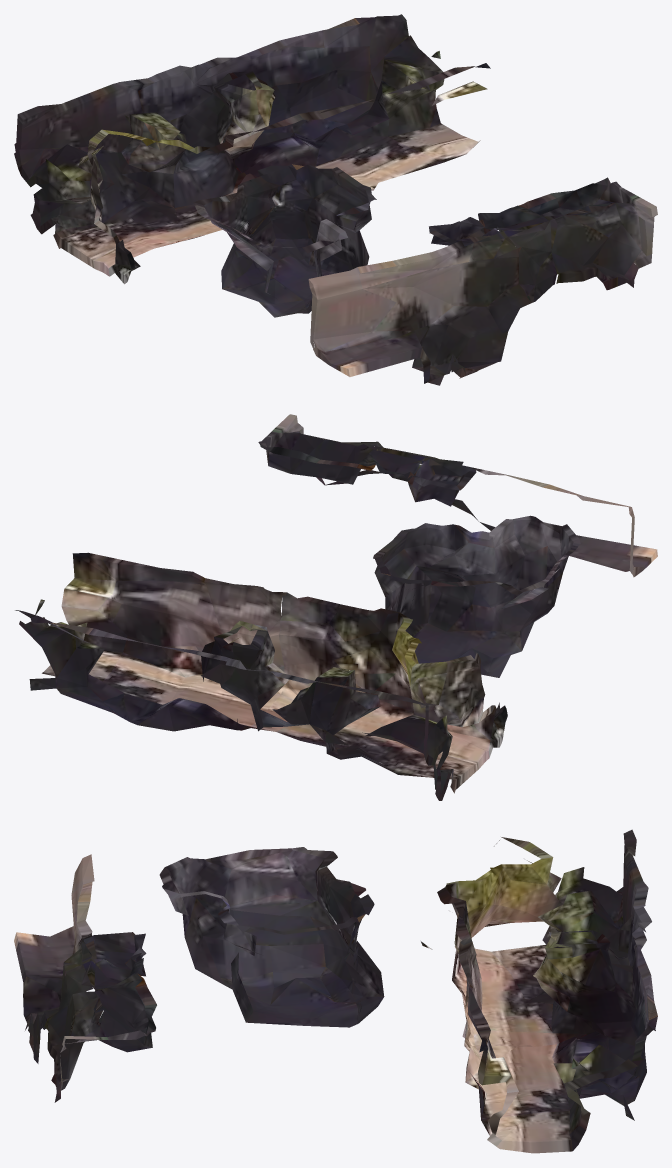
3 renders of one model, top to bottom at view 1: azimuth 30°, elevation 25°; view 2: azimuth 150°, elevation 25°; view 3: azimuth 270°, elevation 25°, orthographic. The views are drawn at different scales.
Parts seen in each view (by area): view 1: Mesh_0; view 2: Mesh_0; view 3: Mesh_0.
Part boxes in pixels (box(x1,y1,x2,y2)): Mesh_0: box(14, 14, 657, 385); Mesh_0: box(15, 414, 657, 800); Mesh_0: box(14, 829, 657, 1153).
Bounding box in the file's own units: 30.42 × 8.24 × 37.58.
Materials: 1 (1 with a texture image).
